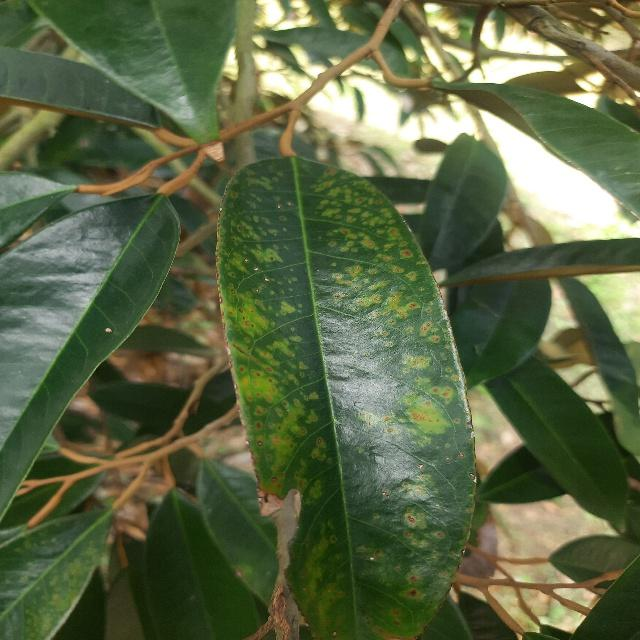Leaf Spot: (206, 143, 491, 640)
